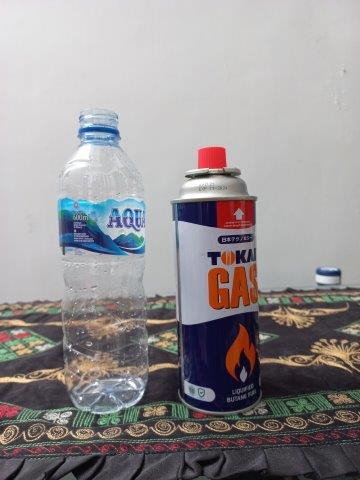botolplastik: (58, 108, 146, 409)
kaleng: (173, 146, 261, 415)
